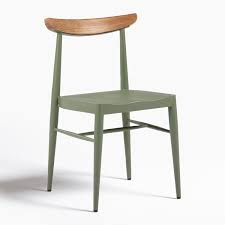tiyarina: (35, 6, 188, 218)
